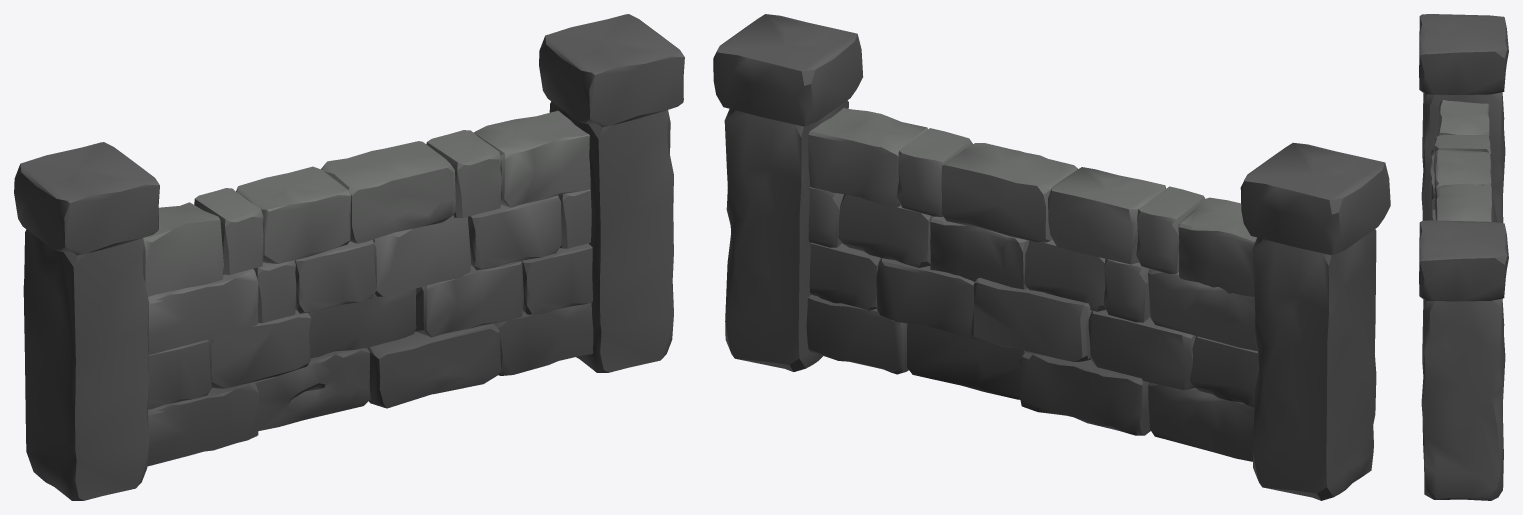
Rendered from BrickWall_1.fbx.
The picture shows the model from 3 angles, left to right: view 1: azimuth 30°, elevation 25°; view 2: azimuth 150°, elevation 25°; view 3: azimuth 270°, elevation 25°; orthographic projection. The views are drawn at different scales.
Parts seen in each view (by area): view 1: BrickWall_1; view 2: BrickWall_1; view 3: BrickWall_1.
Boxes of the visible parts, x1,y1,x2,y2 form: BrickWall_1: [14, 14, 684, 500]; BrickWall_1: [713, 14, 1390, 500]; BrickWall_1: [1419, 14, 1508, 500].
Bounding box in the file's own units: 380 × 180 × 58.85.
